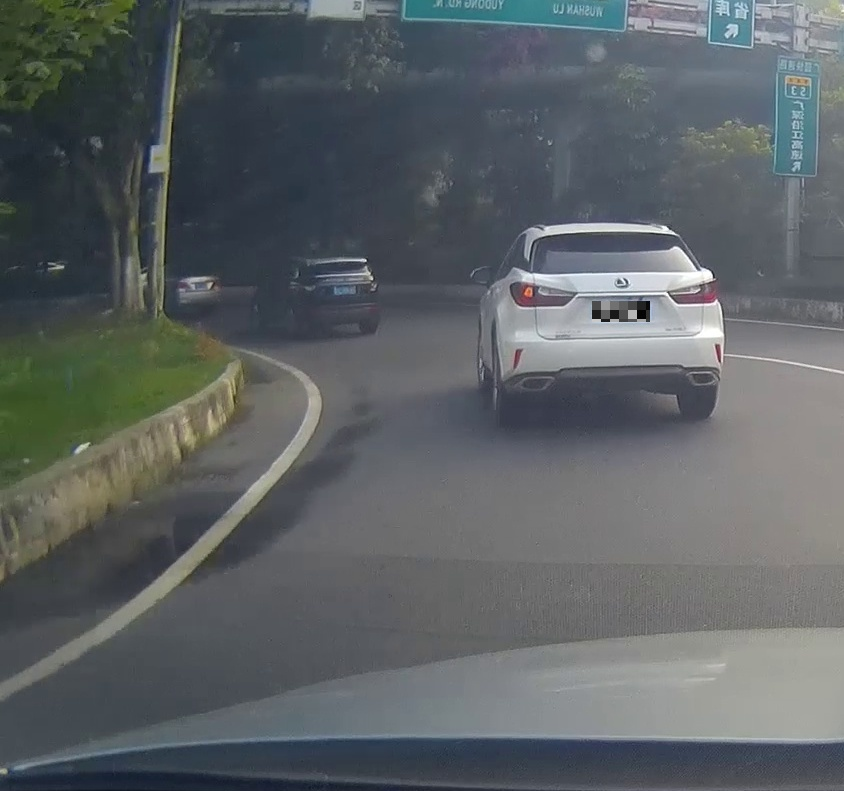L_light: (509, 281, 579, 308), (302, 284, 318, 294)
R_light: (667, 278, 720, 305), (369, 281, 378, 292)
T_light: (590, 230, 633, 237), (336, 260, 348, 266)
day-left: (499, 224, 725, 421)
day-no: (300, 257, 380, 335)
plate_1: (592, 301, 650, 322)
